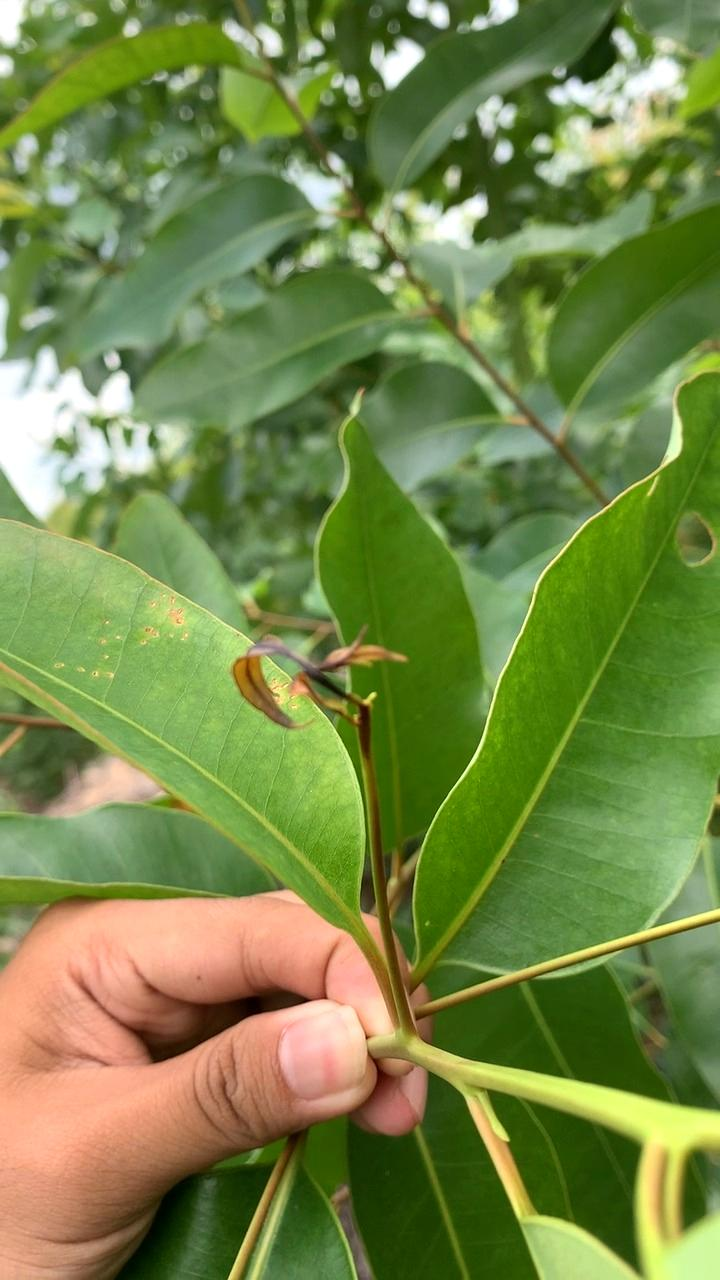Helopeltis-Withered Sprout: (228, 633, 415, 733)
